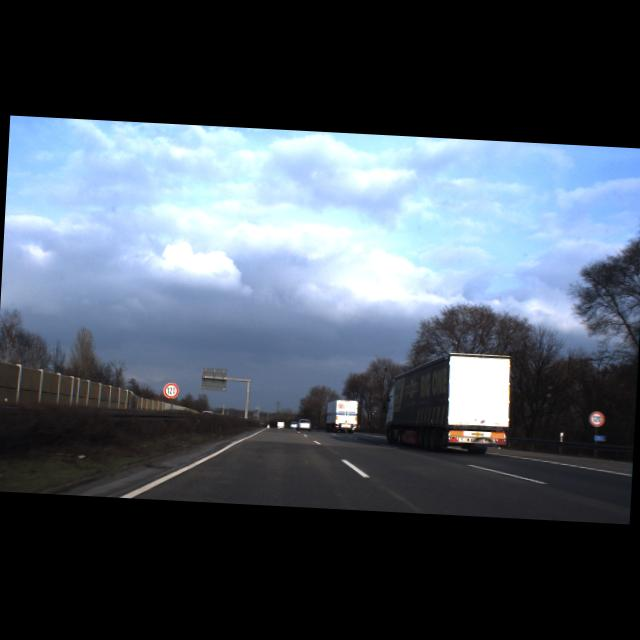prohibitory: (162, 382, 180, 399), (588, 411, 604, 428)
